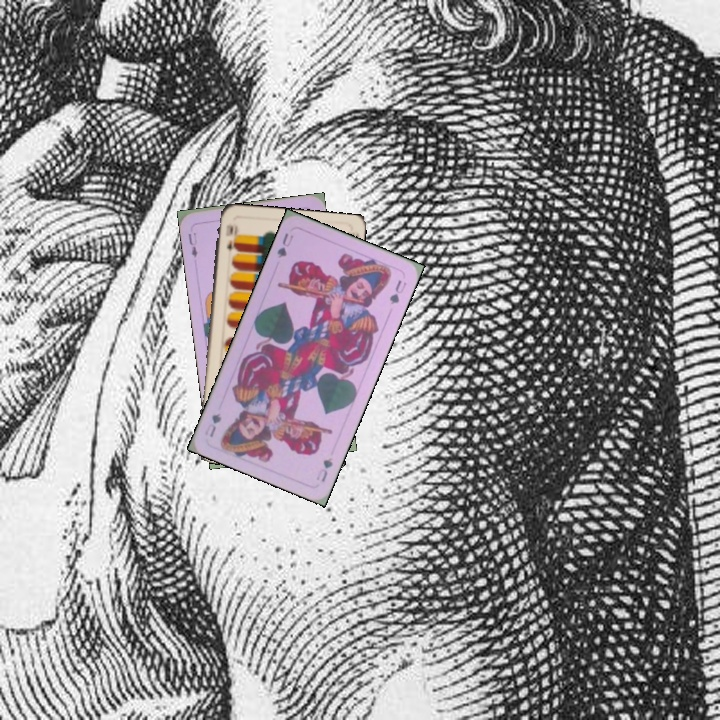E10: (222, 219, 240, 254)
EU: (184, 229, 200, 260)
GU: (273, 229, 296, 261), (312, 453, 335, 484)
